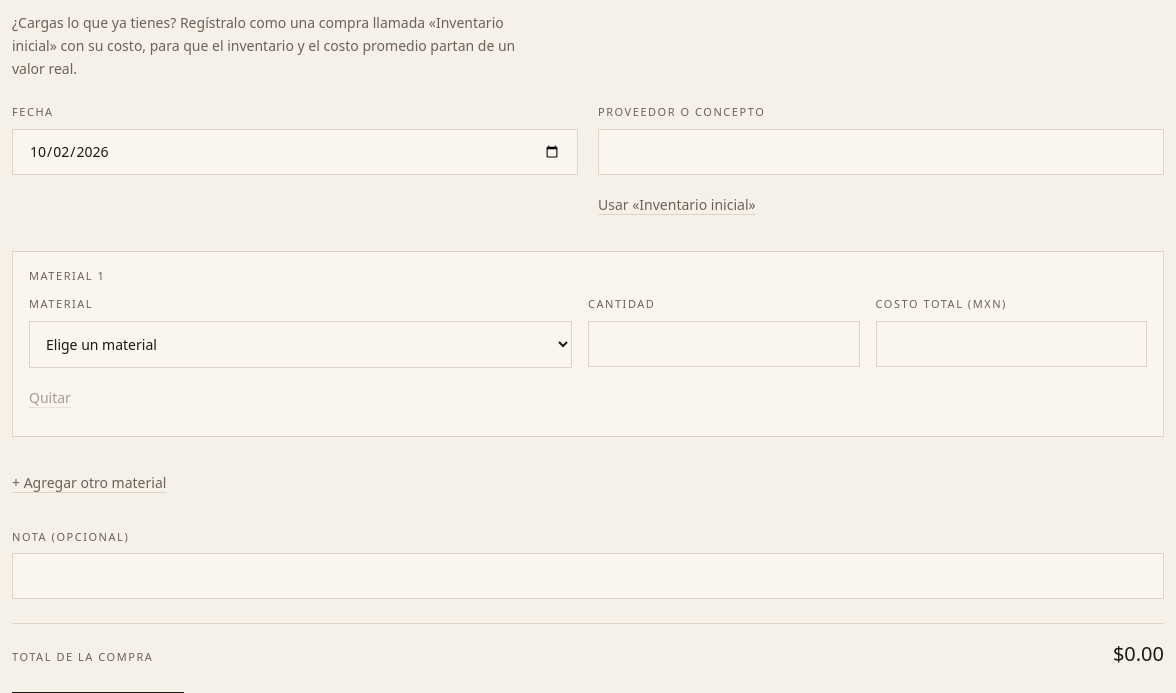
PurchaseForm: item rows › shows the unit of the chosen material in the quantity label
The width and height of the screenshot is (1176, 693).
Check: the text "Cantidad" is shown, box top-left (588, 296), bottom-right (655, 311)
Select "Plata fina" in the dropdown labelled "Material" at (300, 344), box top-left (29, 321), bottom-right (572, 368)
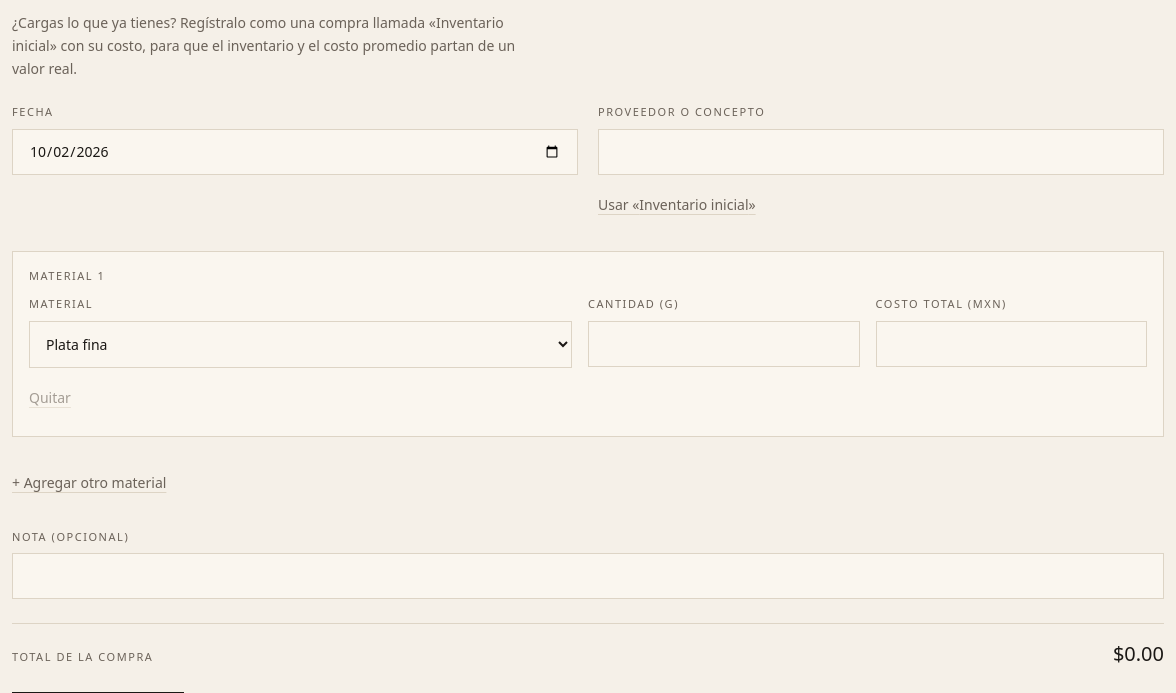
Check: the text "Cantidad (g)" is shown, box top-left (588, 296), bottom-right (679, 311)
Select "Circones" in the dropdown labelled "Material" at (300, 344), box top-left (29, 321), bottom-right (572, 368)
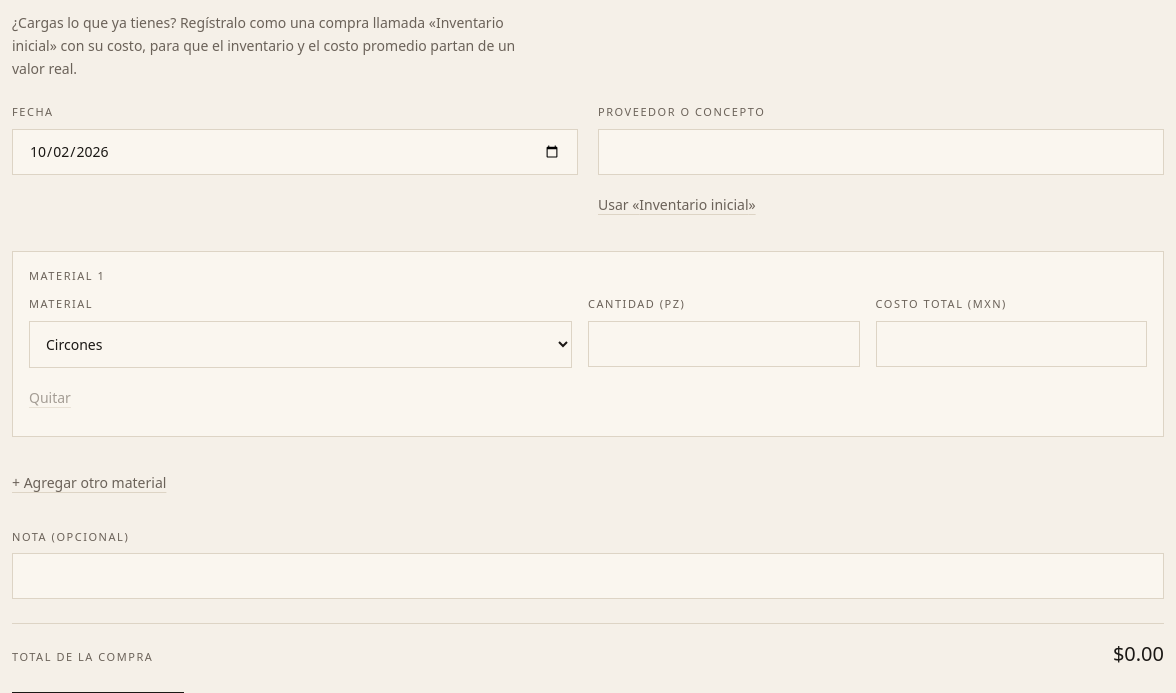
Check: the text "Cantidad (pz)" is shown, box top-left (588, 296), bottom-right (685, 311)
